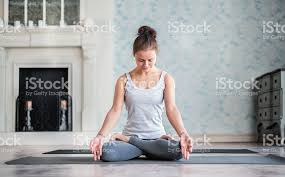hand: (172, 132, 199, 160), (86, 132, 105, 164)
